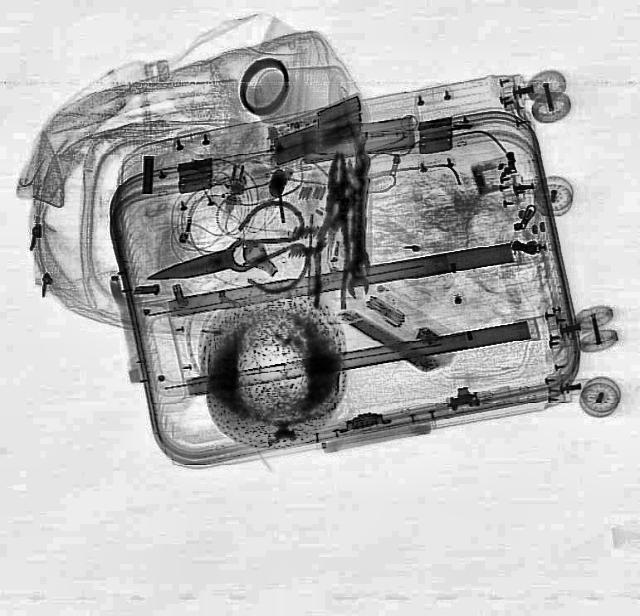Pliers: (311, 148, 354, 310)
Scissors: (132, 194, 320, 319)
Wrench: (346, 183, 368, 297)
